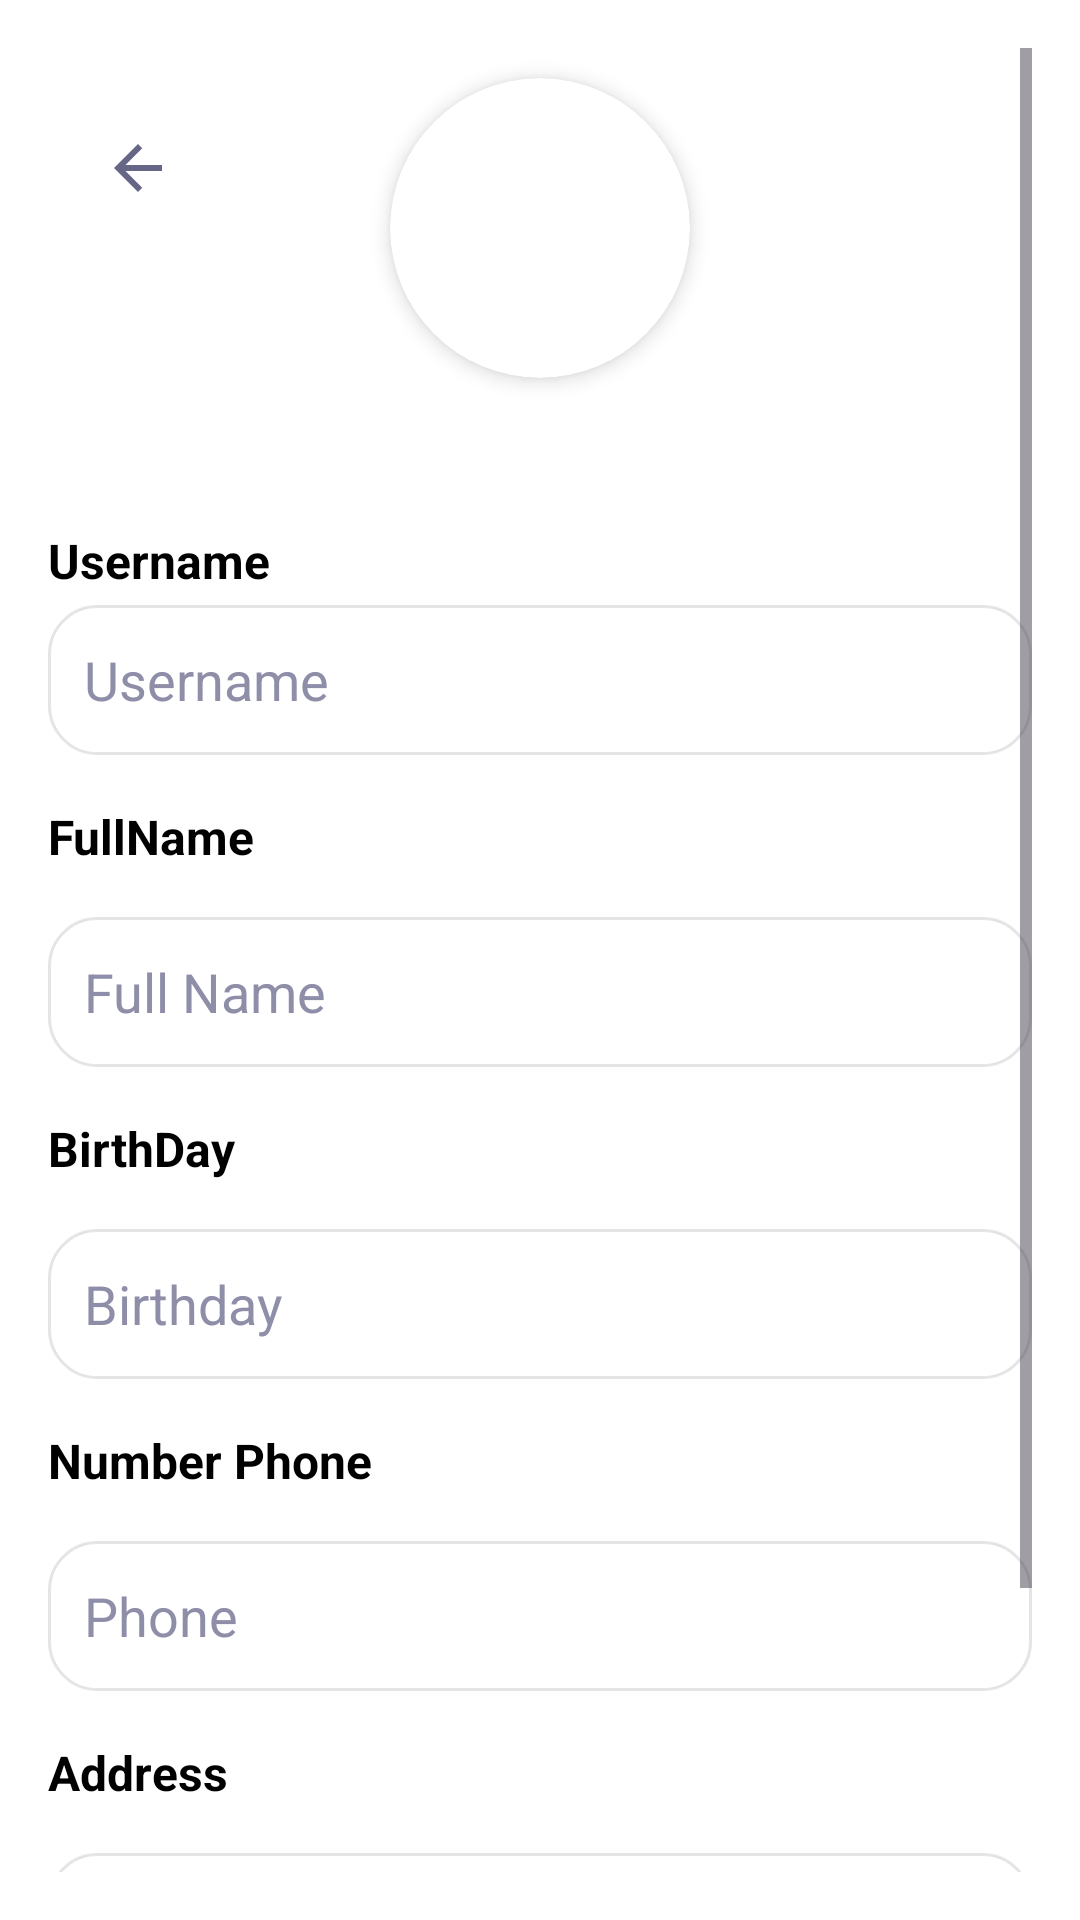

Locate icon controls on the screen. Image size 1080px×1920px, boxes as detection(x1, y1, x2, y2).
Back: detection(114, 144, 162, 192)
